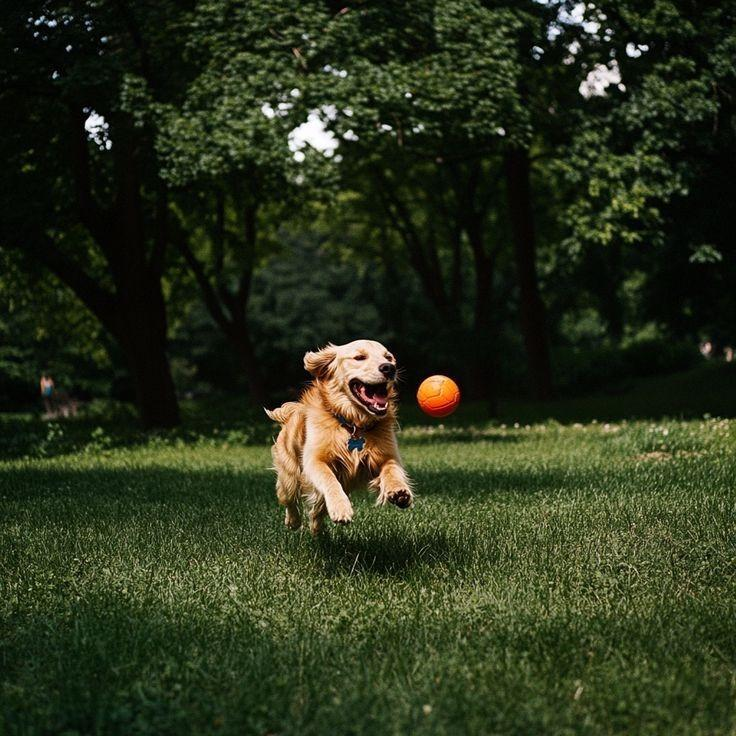adult_dog: (264, 335, 416, 537)
